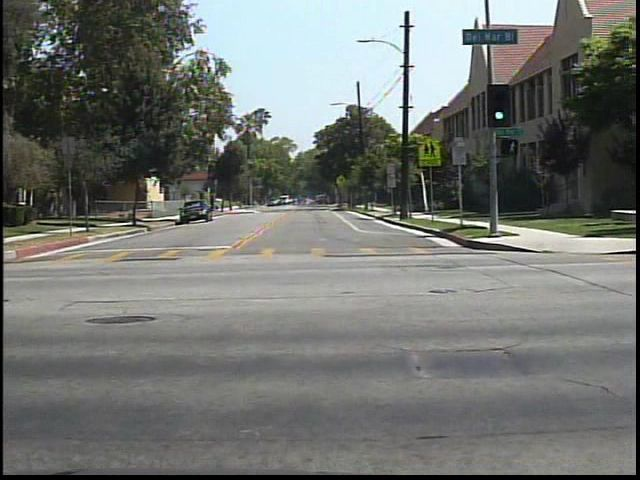person: (293, 191, 308, 208)
